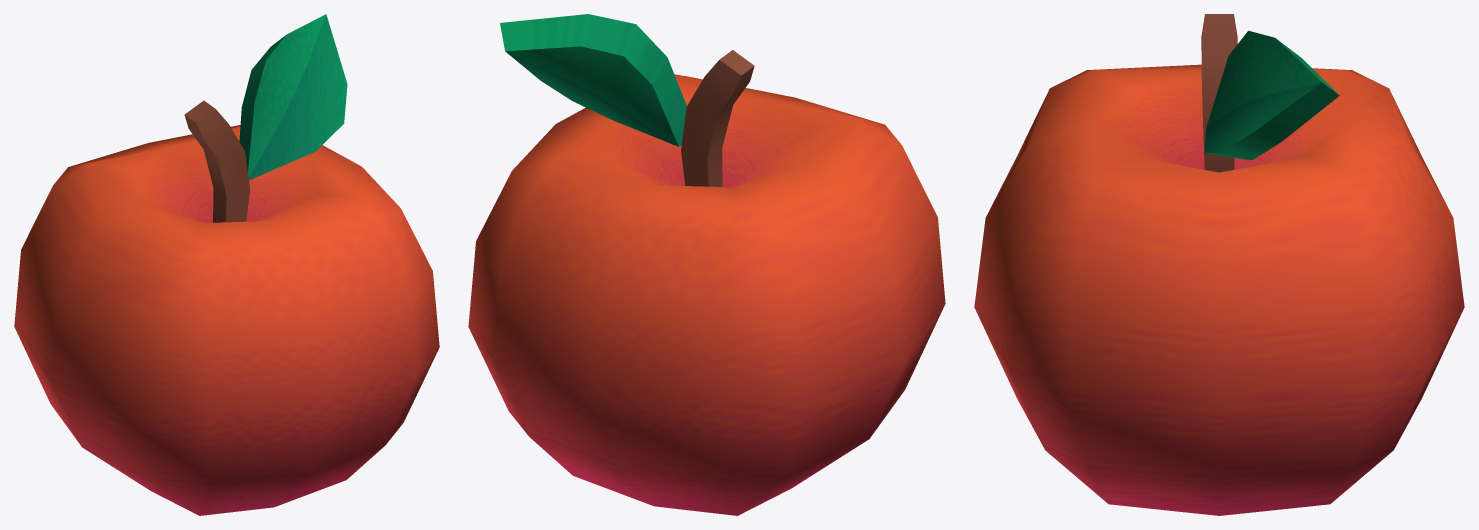
The model's file is Food_Apple_Red.gltf.
3 renders of one model, left to right at view 1: azimuth 30°, elevation 25°; view 2: azimuth 150°, elevation 25°; view 3: azimuth 270°, elevation 25°, orthographic. The views are drawn at different scales.
Parts seen in each view (by area): view 1: Food_Apple_Red; view 2: Food_Apple_Red; view 3: Food_Apple_Red.
Boxes of the visible parts, x1,y1,x2,y2 form: Food_Apple_Red: (14, 14, 439, 515); Food_Apple_Red: (468, 14, 945, 515); Food_Apple_Red: (974, 14, 1464, 515).
Size of the model in its own units: 0.45 by 0.5 by 0.45.
1 material, 1 textured.
